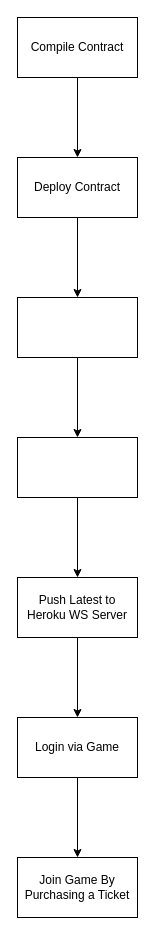
The diagram is 155 pixels wide and 935 high, and some of its shapes have lost their labels. The shapes that lost their labels are listed below. From the top down, each one's centre as x and y in pixels, then its label:
[77,327]: Copy Contract Address to WS Server and Game
[77,467]: Build and Run Game
